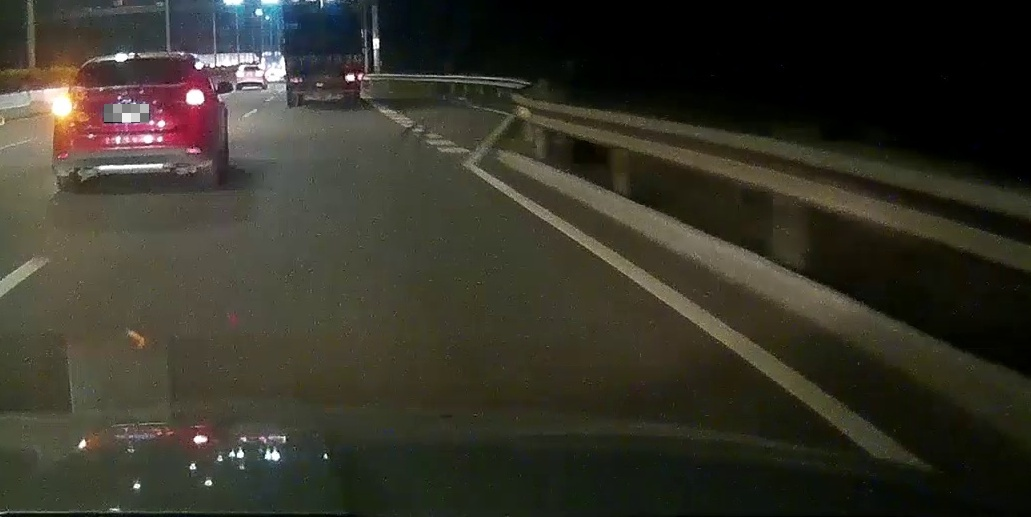L_light: (53, 98, 75, 118)
R_light: (186, 89, 207, 108)
T_light: (122, 61, 143, 66)
night-left: (51, 51, 212, 189)
plate_1: (104, 104, 149, 123)
